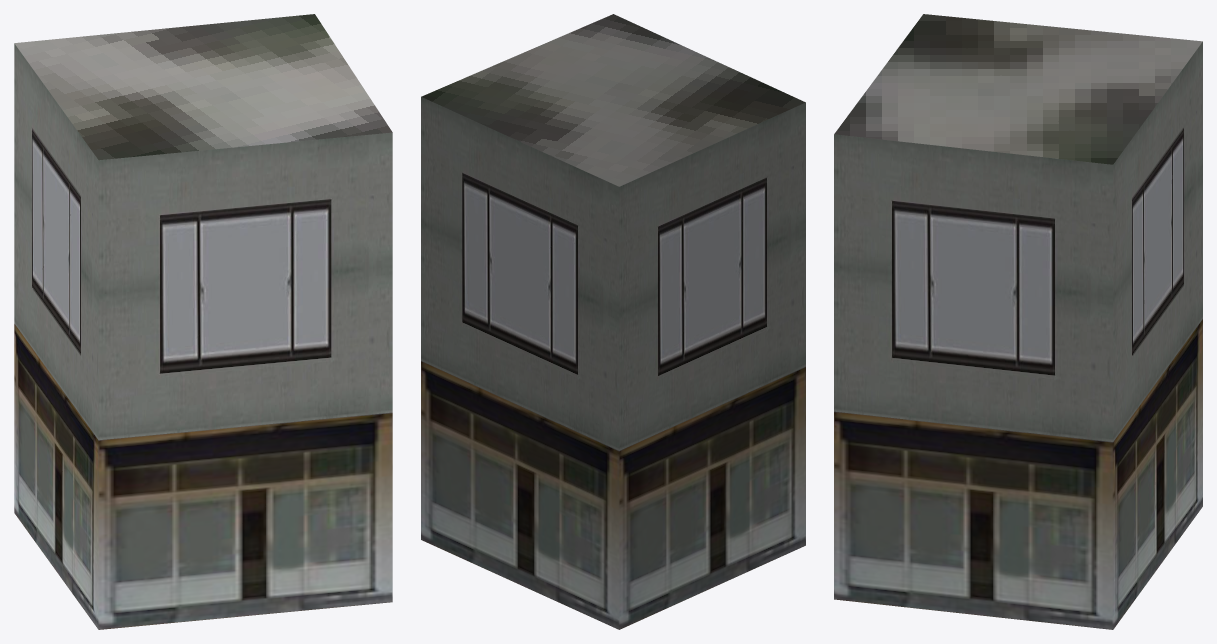
The picture shows the model from 3 angles, left to right: view 1: azimuth 30°, elevation 25°; view 2: azimuth 150°, elevation 25°; view 3: azimuth 270°, elevation 25°; orthographic projection. The views are drawn at different scales.
Visible parts, largest first — view 1: SketchUp (×5); view 2: SketchUp (×5); view 3: SketchUp (×5).
Part boxes in pixels (<box>): SketchUp (×5): <box>14,14,392,629</box>; SketchUp (×5): <box>421,14,805,629</box>; SketchUp (×5): <box>834,14,1202,629</box>.
Bounding box in the file's own units: 5.68 × 5.87 × 8.17.
Materials: 3 (3 with a texture image).
